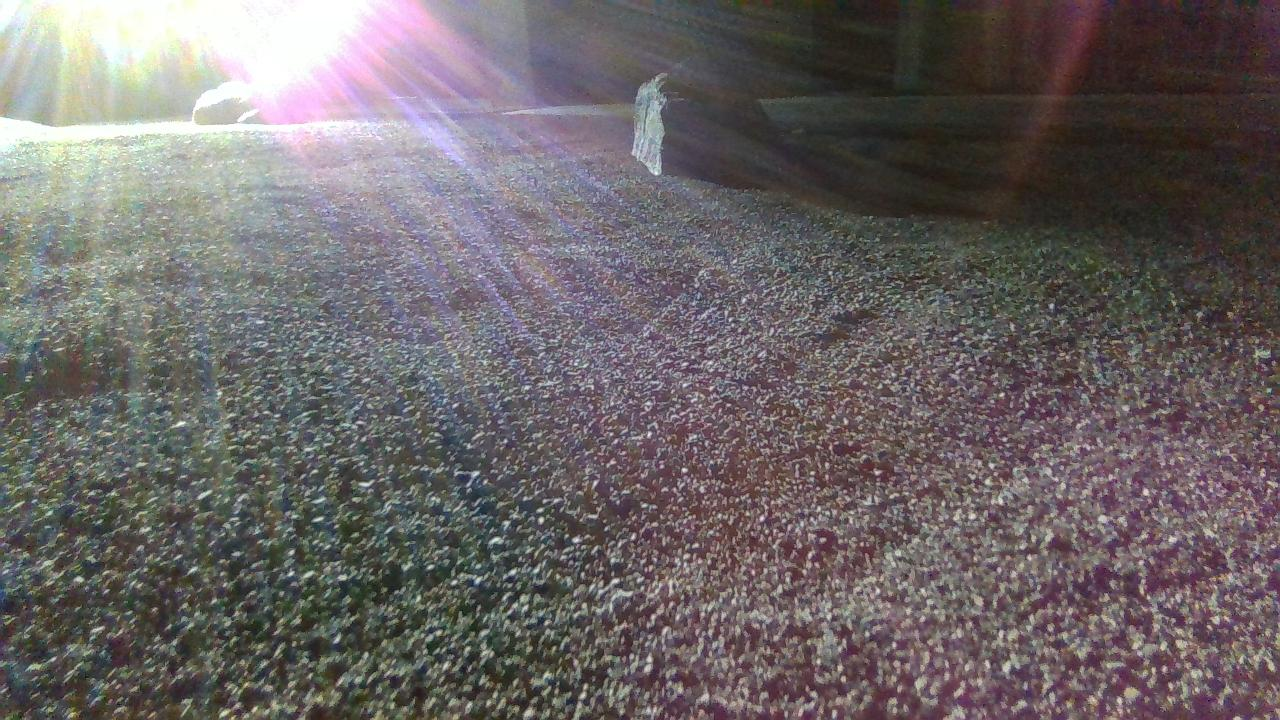rock: (632, 59, 786, 178), (191, 79, 267, 123)
